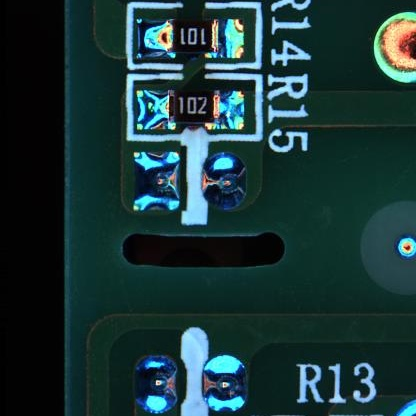spot: (132, 149, 180, 215), (375, 11, 416, 85), (202, 355, 249, 414), (200, 152, 246, 211), (135, 355, 179, 416), (394, 236, 416, 261)
